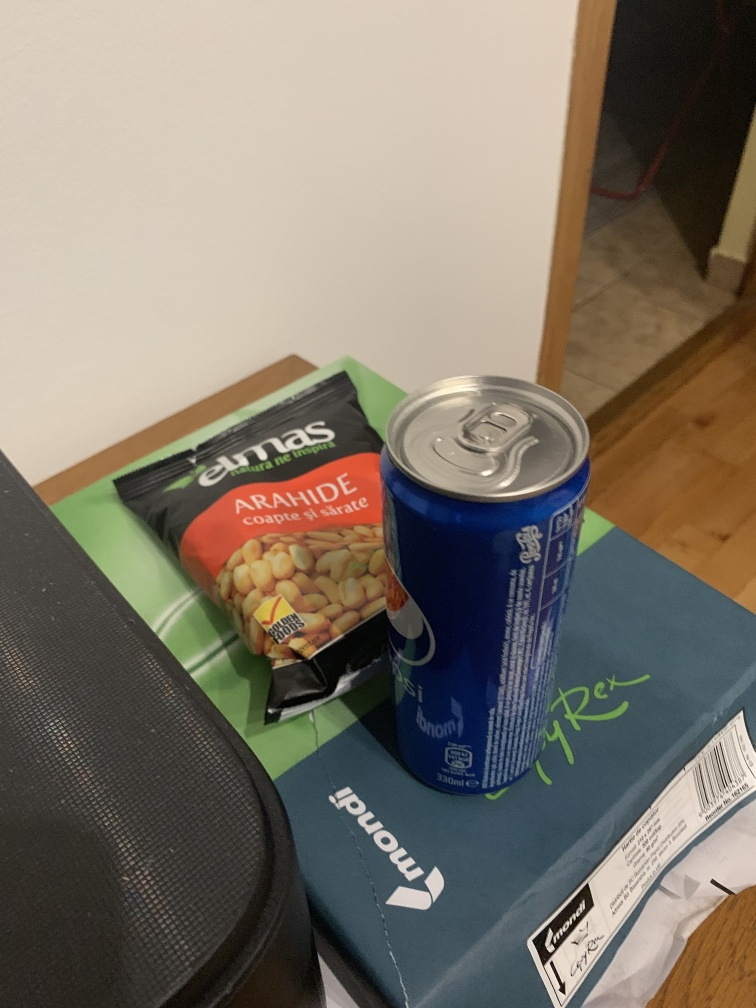peanuts: (115, 365, 378, 730)
pepsi: (371, 374, 592, 801)
